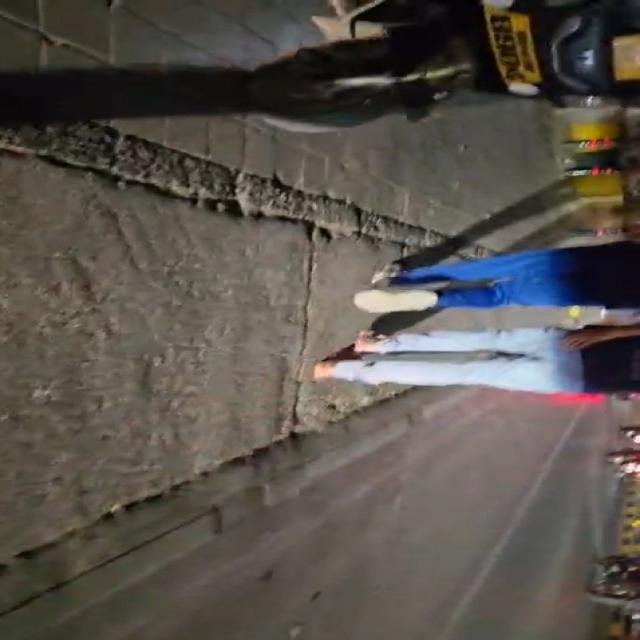bike: (354, 208, 639, 313), (314, 326, 639, 393)
